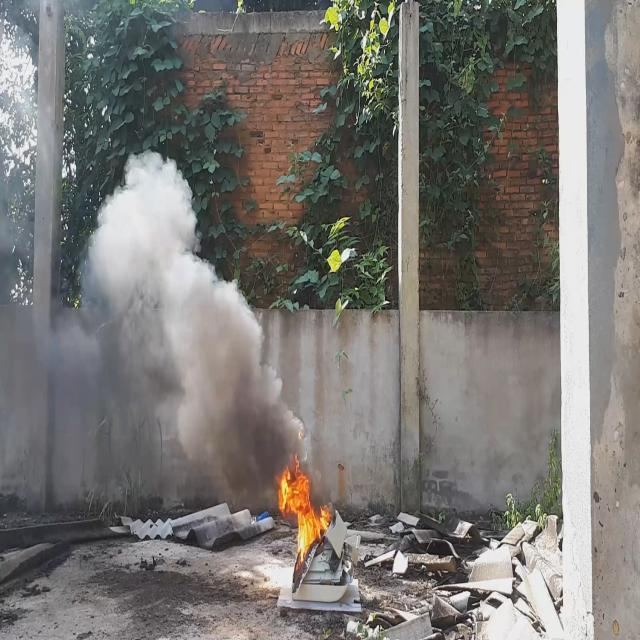Fire: (276, 452, 332, 571)
Smoke: (31, 151, 310, 514)
